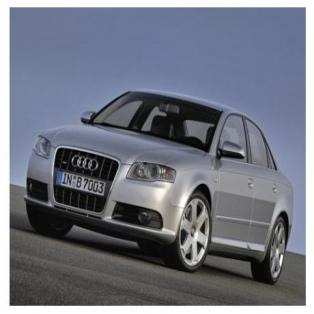Auto: (23, 87, 296, 287)
